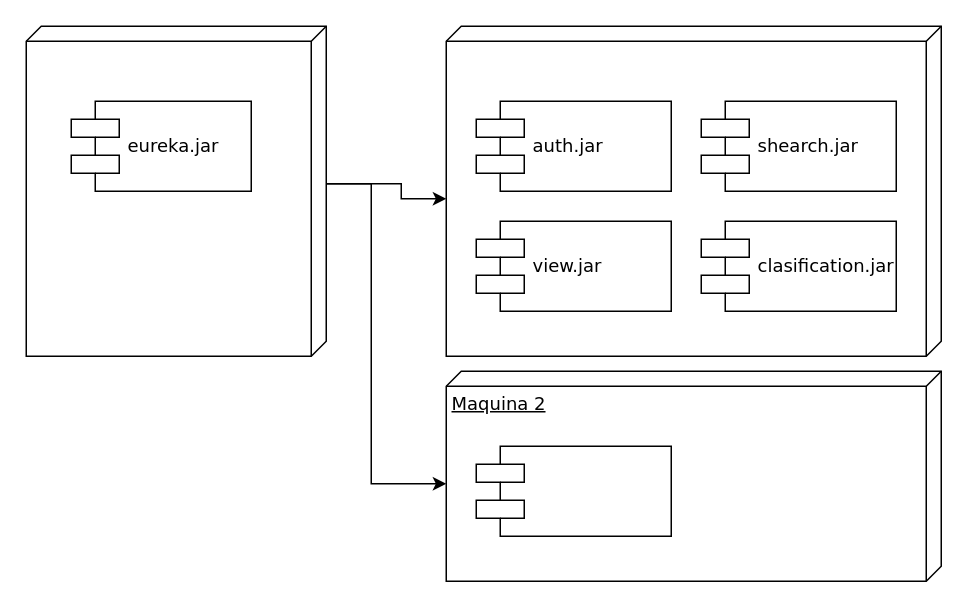
Some shapes in this 968 by 608 pixel diagram are drawn without their labels. Here are the shapes that lost their labels. From the top down, the box of each, then its label:
(25, 25, 326, 356): Maquina 3
(445, 25, 941, 356): Maquina 1
(475, 445, 671, 536): cart.jar
